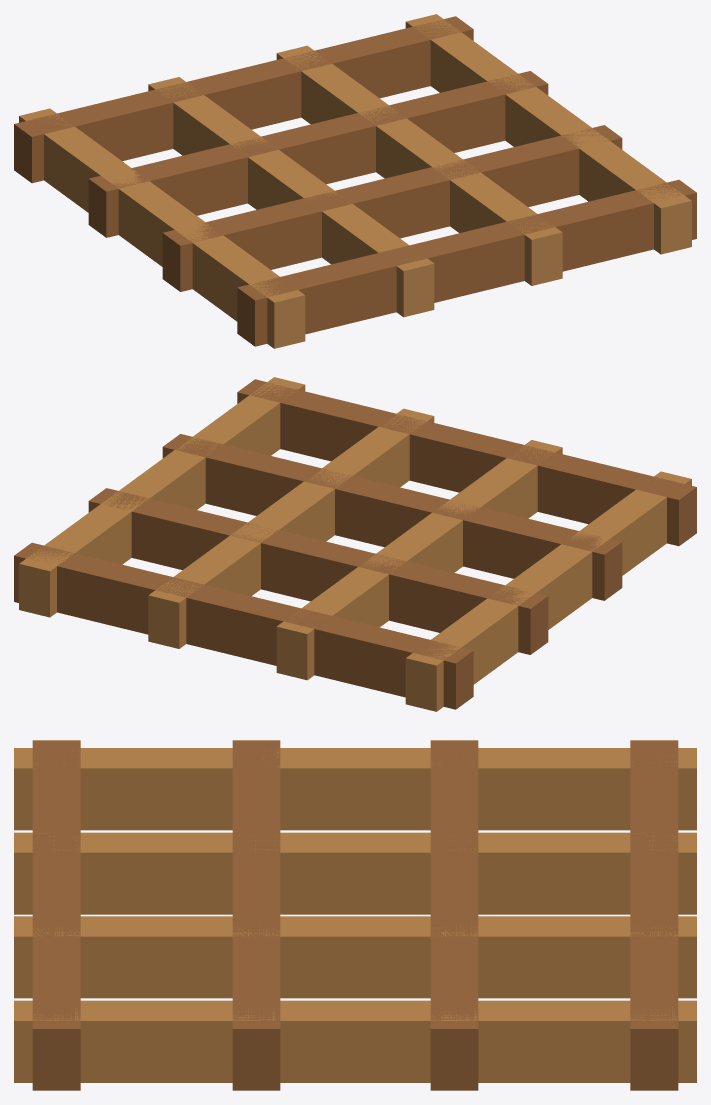
File: wood_foundation.glb
The picture shows the model from 3 angles, top to bottom: view 1: azimuth 30°, elevation 25°; view 2: azimuth 150°, elevation 25°; view 3: azimuth 270°, elevation 25°; orthographic projection. The views are drawn at different scales.
Parts seen in each view (by area): view 1: Beam_X_-1.75, Beam_X_1.75, Beam_X_0.58, Beam_X_-0.58, Beam_Y_-1.75, Beam_Y_1.75, Beam_Y_0.58, Beam_Y_-0.58; view 2: Beam_X_1.75, Beam_X_-1.75, Beam_X_-0.58, Beam_X_0.58, Beam_Y_-1.75, Beam_Y_0.58, Beam_Y_1.75, Beam_Y_-0.58; view 3: Beam_Y_1.75, Beam_Y_0.58, Beam_Y_-0.58, Beam_Y_-1.75, Beam_X_1.75, Beam_X_-1.75, Beam_X_-0.58, Beam_X_0.58.
Part boxes in pixels (x1=…): Beam_X_-1.75: x1=237, y1=179, x2=696, y2=346; Beam_X_1.75: x1=14, y1=16, x2=473, y2=183; Beam_X_0.58: x1=88, y1=71, x2=548, y2=237; Beam_X_-0.58: x1=162, y1=125, x2=622, y2=291; Beam_Y_-1.75: x1=19, y1=108, x2=305, y2=348; Beam_Y_1.75: x1=405, y1=14, x2=691, y2=254; Beam_Y_0.58: x1=276, y1=45, x2=562, y2=285; Beam_Y_-0.58: x1=148, y1=77, x2=434, y2=317; Beam_X_1.75: x1=14, y1=542, x2=473, y2=709; Beam_X_-1.75: x1=237, y1=379, x2=696, y2=546; Beam_X_-0.58: x1=162, y1=434, x2=622, y2=600; Beam_X_0.58: x1=88, y1=488, x2=548, y2=654; Beam_Y_-1.75: x1=405, y1=471, x2=691, y2=711; Beam_Y_0.58: x1=148, y1=408, x2=434, y2=648; Beam_Y_1.75: x1=19, y1=377, x2=305, y2=617; Beam_Y_-0.58: x1=276, y1=440, x2=562, y2=680; Beam_Y_1.75: x1=14, y1=1000, x2=696, y2=1082; Beam_Y_0.58: x1=14, y1=916, x2=696, y2=998; Beam_Y_-0.58: x1=14, y1=832, x2=696, y2=914; Beam_Y_-1.75: x1=14, y1=748, x2=696, y2=830; Beam_X_1.75: x1=630, y1=740, x2=678, y2=1090; Beam_X_-1.75: x1=32, y1=740, x2=80, y2=1090; Beam_X_-0.58: x1=232, y1=740, x2=280, y2=1090; Beam_X_0.58: x1=430, y1=740, x2=478, y2=1090.
Bounding box in the file's own units: 4 × 0.4 × 4.
